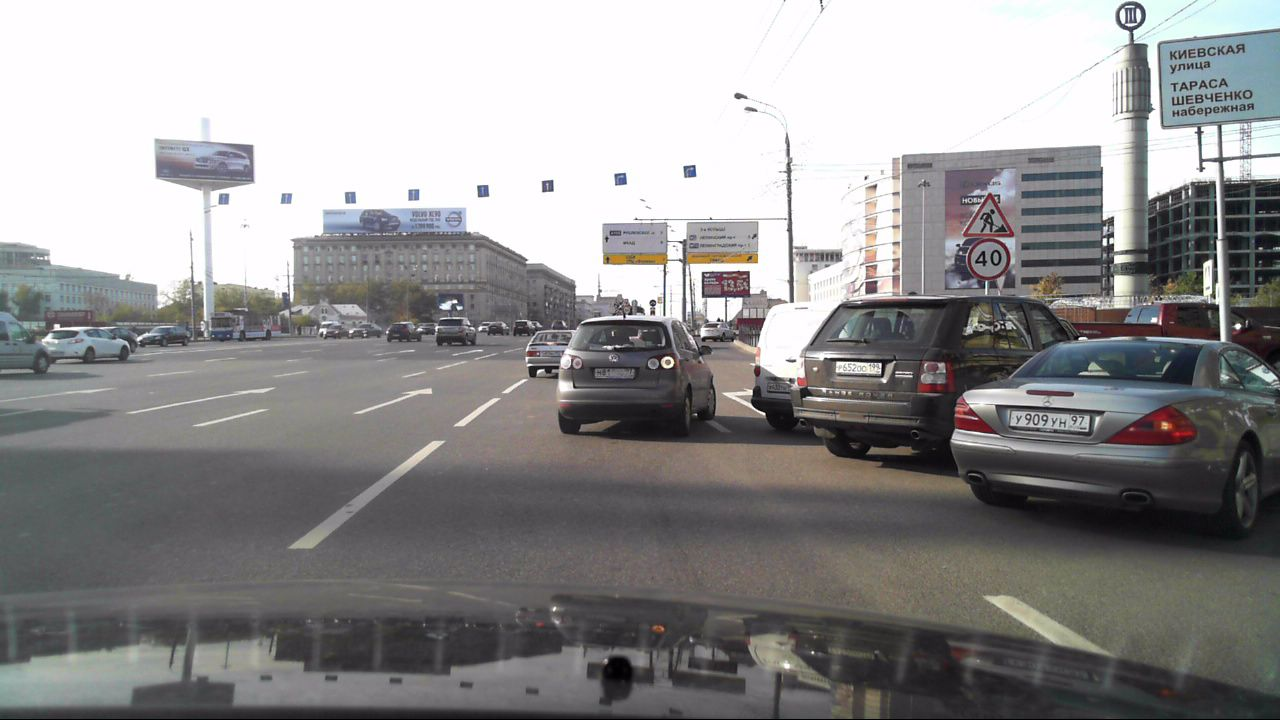speed_warning_40: (965, 239, 1012, 281)
